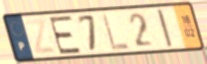2: (129, 11, 155, 49)
7: (76, 14, 100, 53)
E: (48, 14, 83, 56)
I: (155, 8, 175, 49)
L: (100, 12, 132, 53)
Z: (22, 17, 58, 56)
